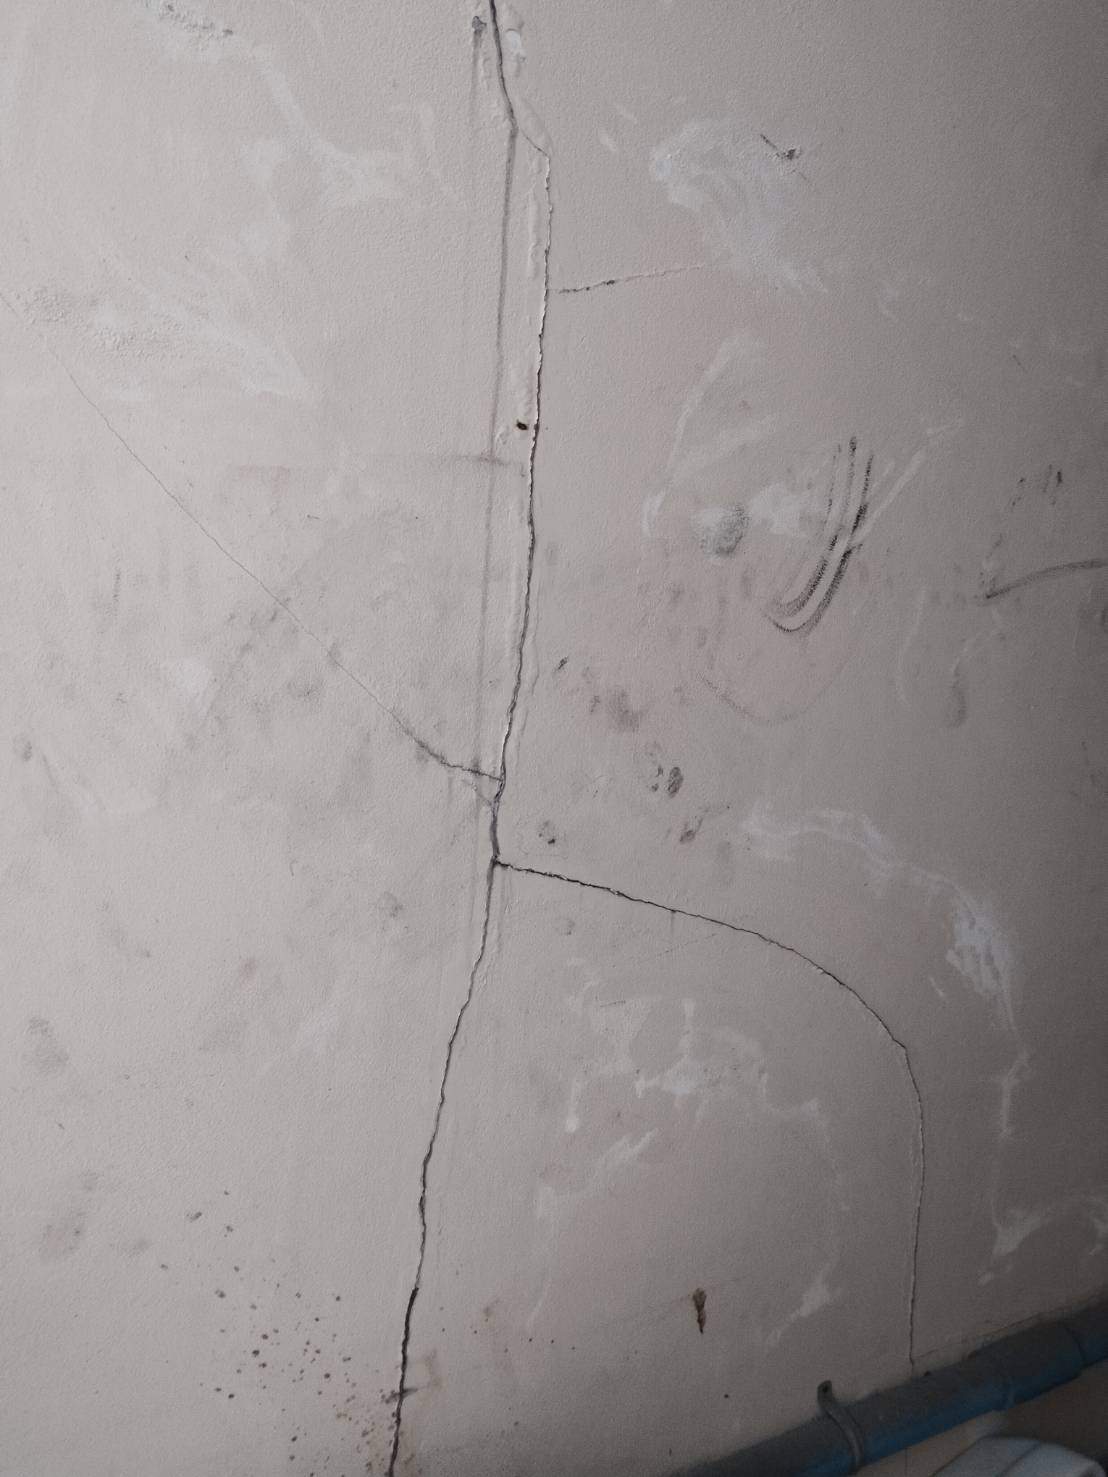Low: (353, 12, 944, 1477)
